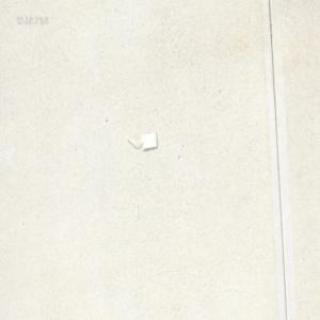LuggageTagtrack_idkeyframe: (124, 130, 157, 150)
